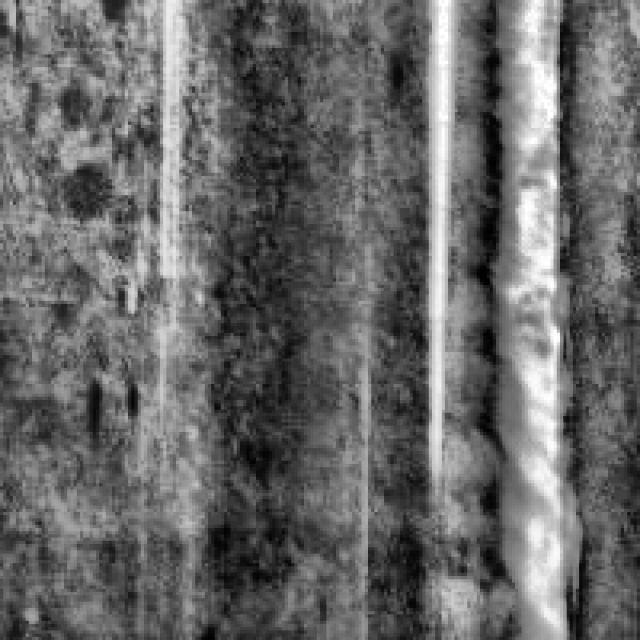Inclusion: (474, 0, 580, 634), (410, 0, 458, 477)
